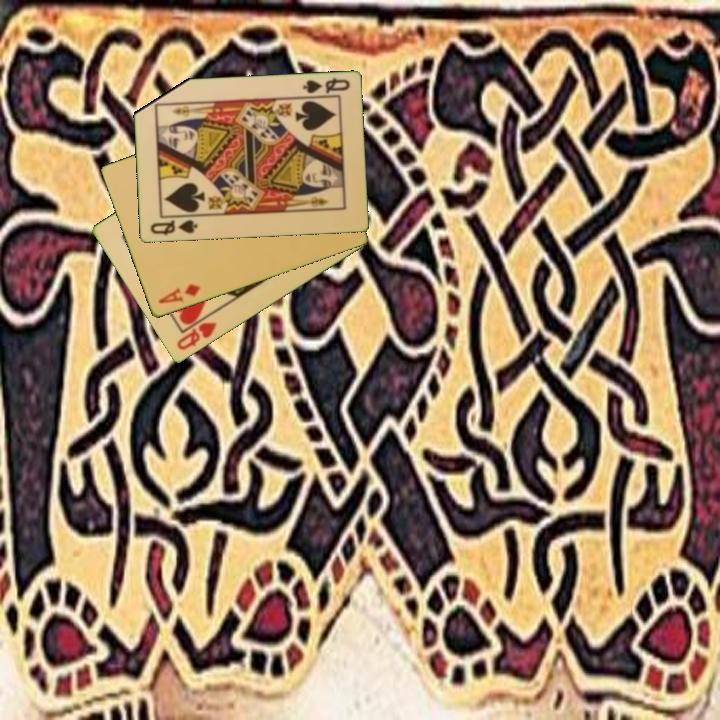Ad: (154, 281, 203, 307)
Qh: (173, 319, 220, 354)
Qs: (299, 75, 353, 99), (147, 217, 200, 238)
